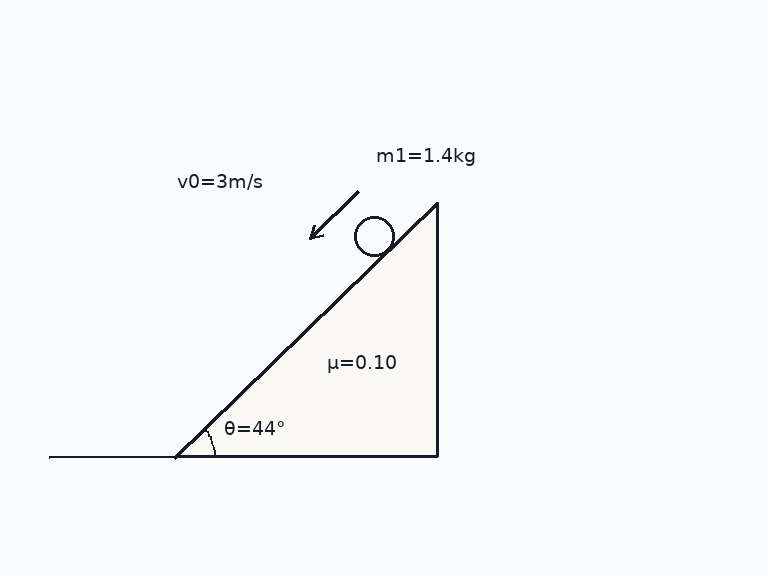ball: (352, 214, 396, 258)
ramp: (173, 201, 439, 458)
